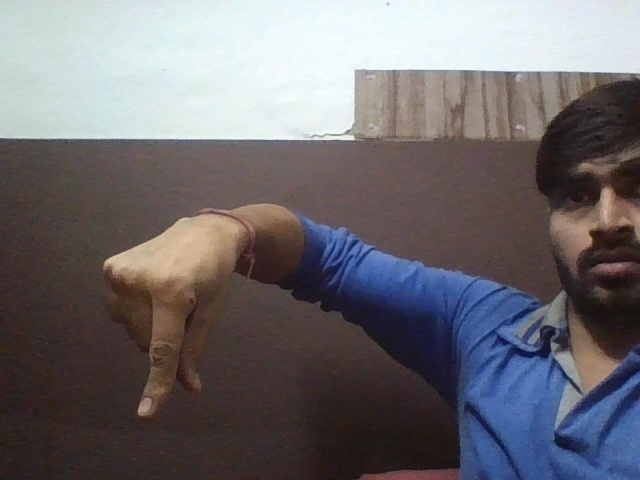Q: (84, 217, 245, 444)
